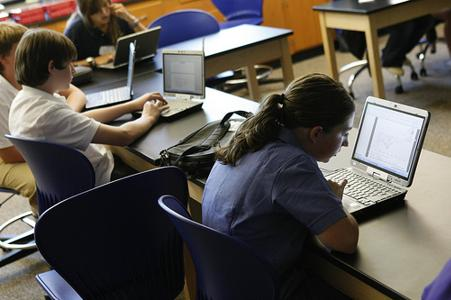person: (201, 74, 359, 300)
